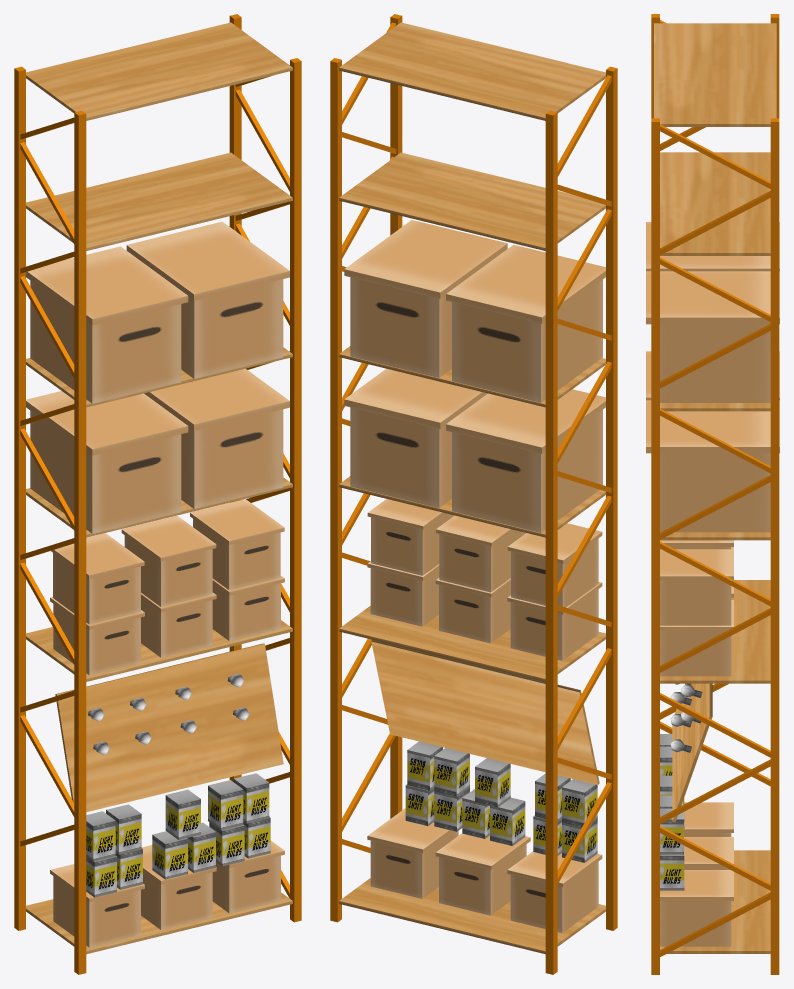
The model's file is LightBulb_Racks.fbx.
The picture shows the model from 3 angles, left to right: view 1: azimuth 30°, elevation 25°; view 2: azimuth 150°, elevation 25°; view 3: azimuth 270°, elevation 25°; orthographic projection.
Parts seen in each view (by area): view 1: LightBulb_Rack; view 2: LightBulb_Rack; view 3: LightBulb_Rack.
Boxes of the visible parts, <box> form: LightBulb_Rack: <box>14,14,301,974</box>; LightBulb_Rack: <box>330,14,617,974</box>; LightBulb_Rack: <box>646,14,779,974</box>.
Size of the model in its own units: 2 by 7.37 by 1.05.
